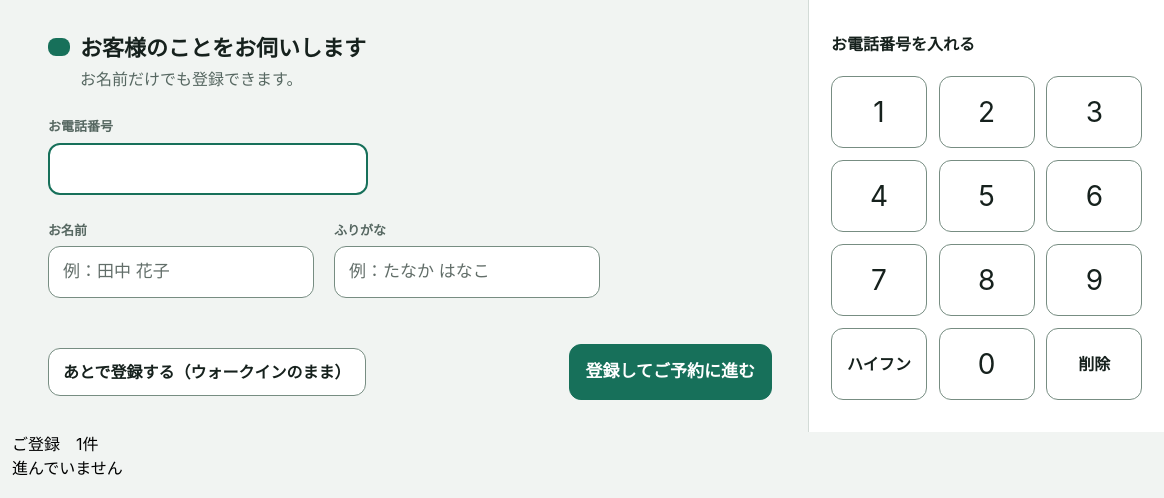
it: 登録 › お名前もお電話番号も空だと「お名前が入っていません。」を欄の下に 1 行で出す
What coordinates should you click on to do the following:
click the button "登録してご予約に進む"
I would click on:
 (670, 372)
Its box is [568,344,772,400].
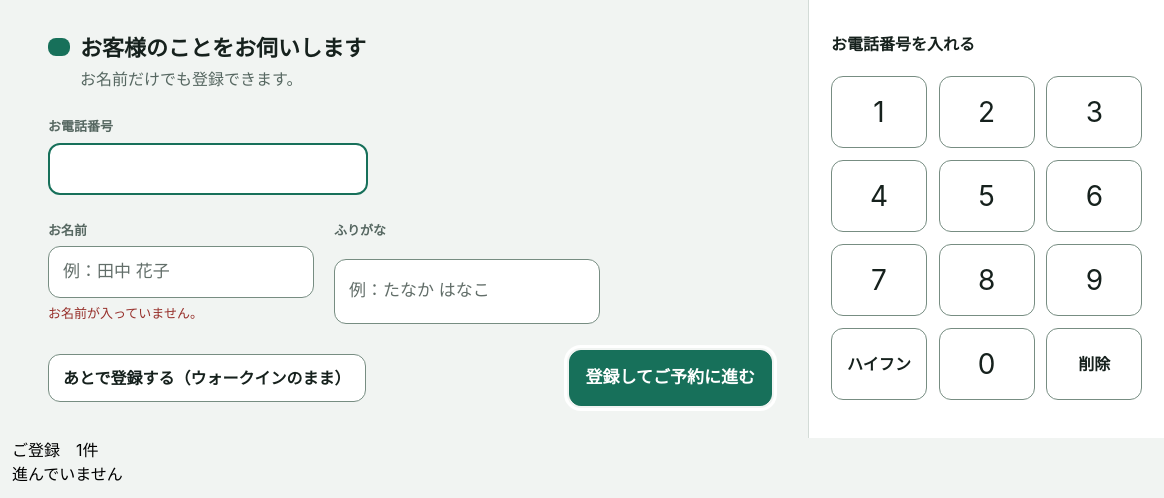
Check: the text "ご登録 1件" is shown, box [12,440,98,460]
Check: the text "お名前が入っていません。" is shown, box [48,305,203,321]
